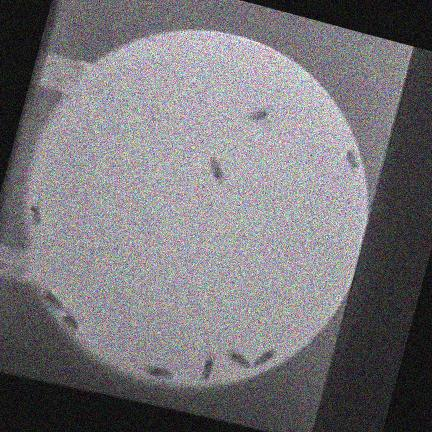fly: (227, 350, 250, 369), (44, 290, 64, 310), (201, 354, 215, 380), (255, 350, 275, 367), (210, 158, 223, 182), (146, 367, 171, 379), (248, 109, 270, 122), (63, 312, 78, 330), (346, 150, 360, 169), (30, 203, 41, 225)
